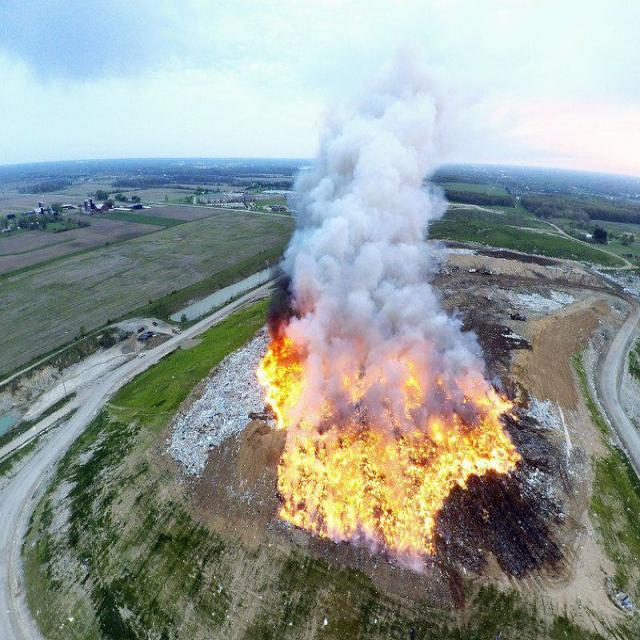Fire: (245, 337, 514, 547)
Smoke: (276, 44, 492, 420)
